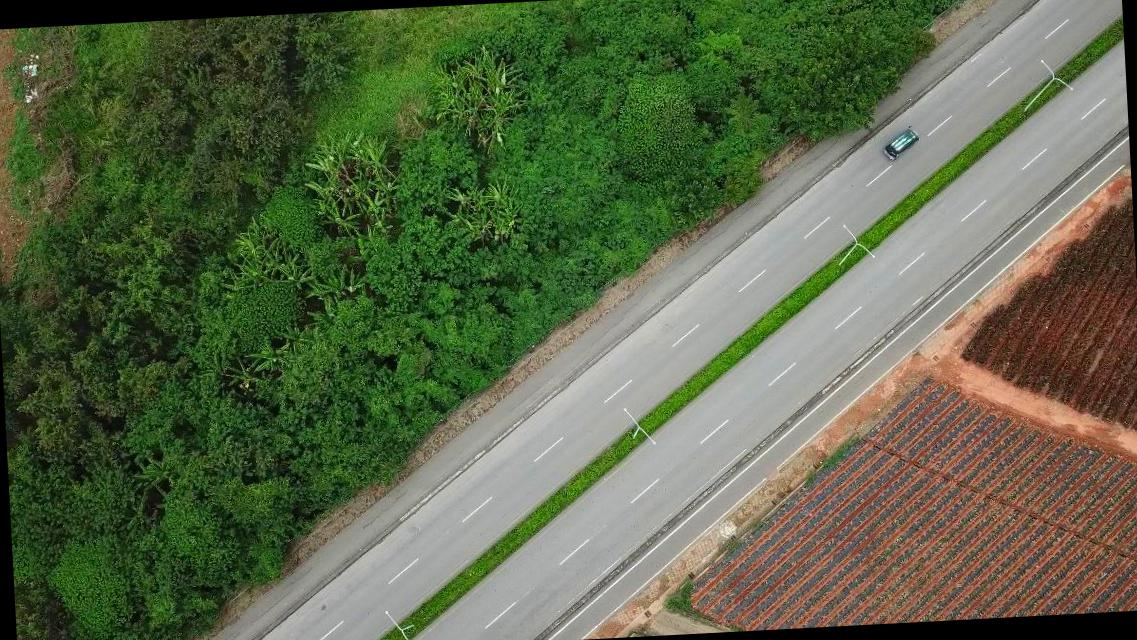vehicle: (880, 128, 919, 158)
